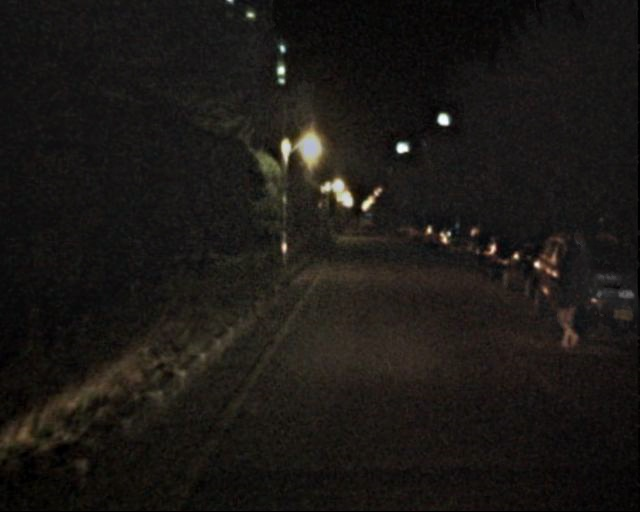person: (544, 250, 587, 355), (553, 228, 595, 331)
